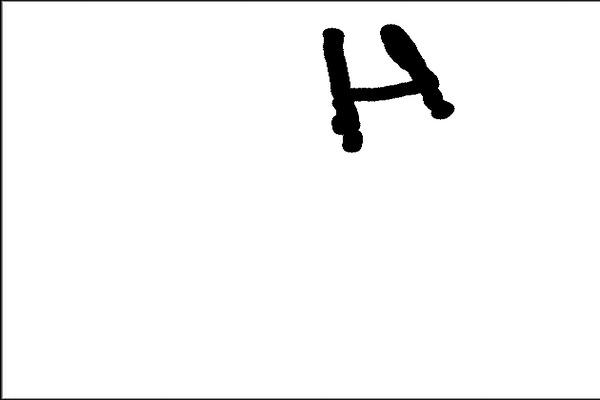H: (315, 14, 462, 153)
